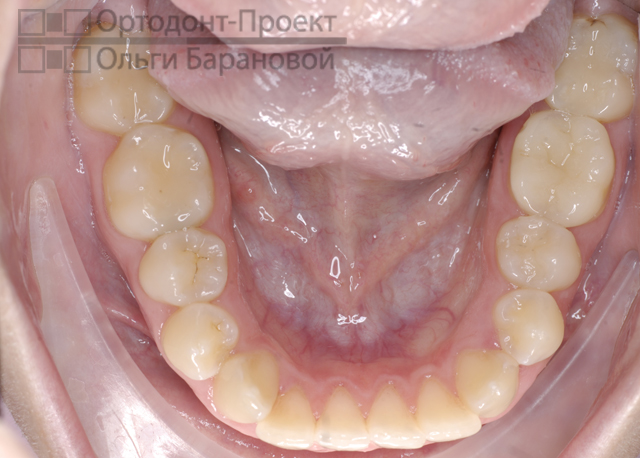LL1BC_healthy: (492, 286, 567, 368)
LL1M_healthy: (513, 106, 619, 230)
LL2BC_healthy: (494, 216, 584, 294)
LL2M_decay: (547, 11, 638, 126)
LLCI_healthy: (365, 380, 426, 450)
LLC_healthy: (450, 345, 527, 418)
LLLI_healthy: (412, 371, 483, 444)
LR1BC_healthy: (161, 298, 241, 380)
LR1M_healthy: (104, 121, 215, 243)
LR2BC_decay: (133, 229, 231, 306)
LR2M_healthy: (70, 75, 182, 130)
LRCI_healthy: (320, 385, 370, 454)
LRC_healthy: (209, 348, 287, 426)
LRLI_healthy: (263, 376, 320, 450)
